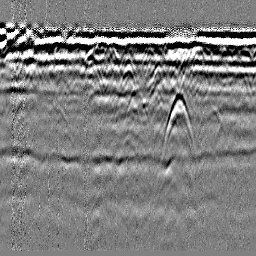cavity: (118, 59, 138, 90)
